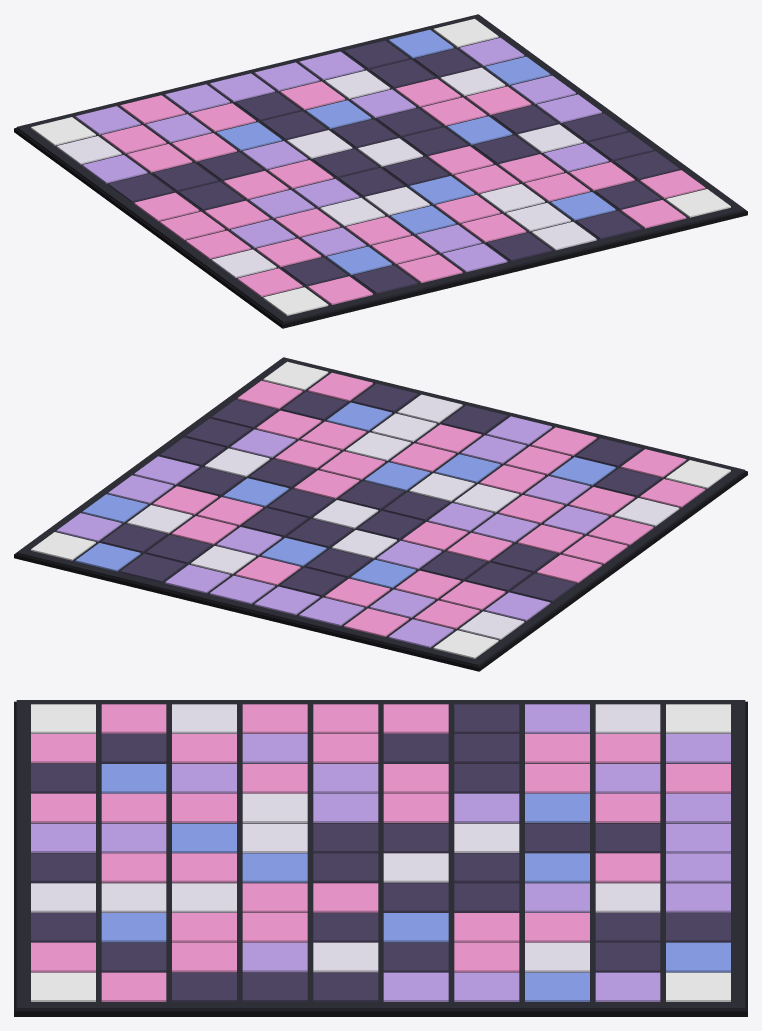
File: LightFloor.obj
The picture shows the model from 3 angles, top to bottom: view 1: azimuth 30°, elevation 25°; view 2: azimuth 150°, elevation 25°; view 3: azimuth 270°, elevation 25°; orthographic projection. The views are drawn at different scales.
Visible parts, largest first — view 1: LightFloor; view 2: LightFloor; view 3: LightFloor.
Part boxes in pixels (left/top/right/bottom): LightFloor: left=14, top=14, right=747, bottom=328; LightFloor: left=14, top=357, right=747, bottom=671; LightFloor: left=14, top=700, right=747, bottom=1016.
Bounding box in the file's own units: 5.2 × 0.075 × 5.2.
